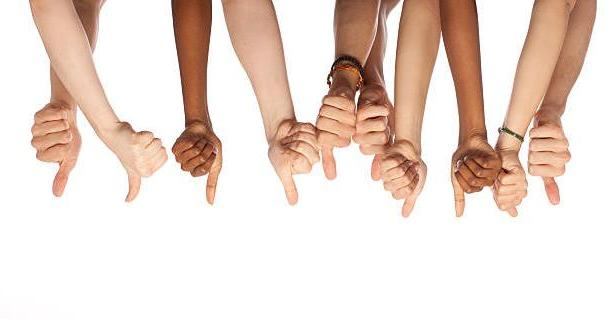thumbsdown: (29, 105, 84, 198), (172, 123, 224, 206), (270, 120, 319, 206), (450, 140, 502, 216), (119, 129, 170, 203), (527, 122, 571, 207), (379, 146, 429, 220), (315, 95, 355, 181), (352, 100, 389, 181)
